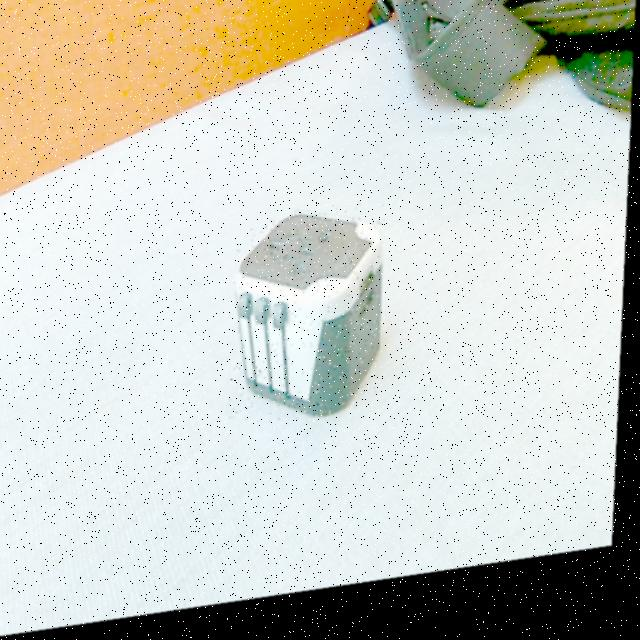adapter: (232, 209, 389, 437)
